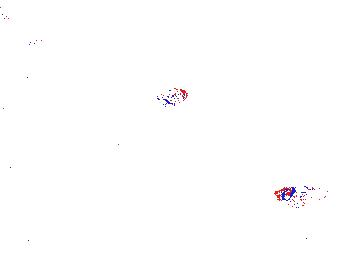X-ray fish: (274, 183, 330, 211)
red belly glassfish: (155, 87, 188, 105)
